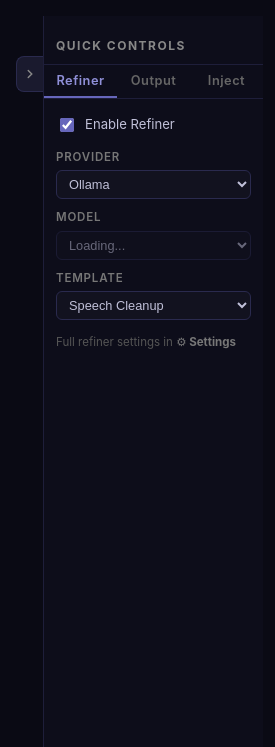
Scenario: QuickControlsSidebar › switches to output tab on click
Click the tab "Output" at (154, 82), box x1=117 y1=65 x2=190 y2=98
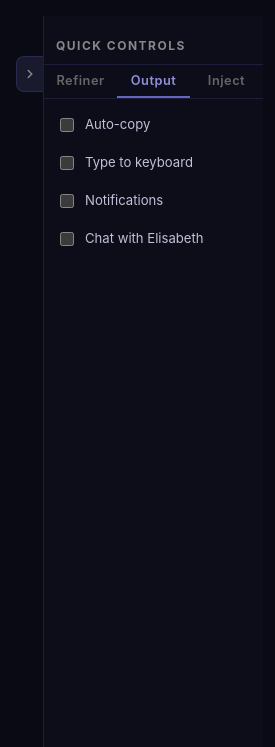
Now the text "Auto-copy" is shown, box x1=85 y1=115 x2=150 y2=135
Now the text "Type to keyboard" is shown, box x1=85 y1=153 x2=193 y2=173
Now the text "Notifications" is shown, box x1=85 y1=191 x2=163 y2=211
